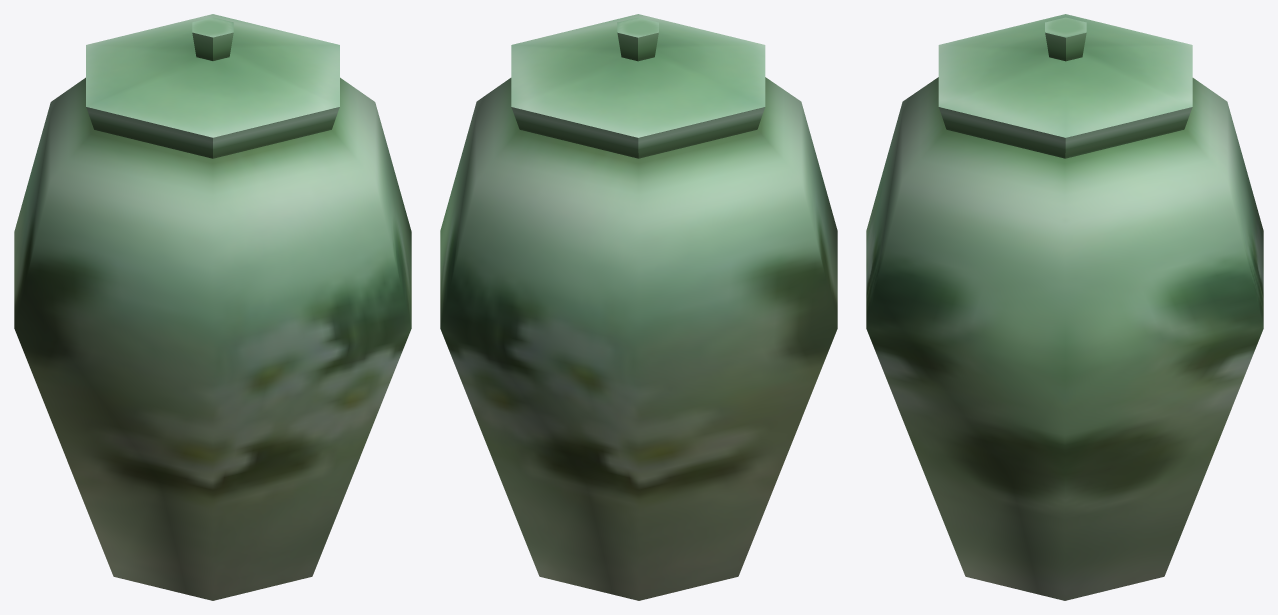
Rendered from M5_P_taohuazui01.FBX.
3 renders of one model, left to right at view 1: azimuth 30°, elevation 25°; view 2: azimuth 150°, elevation 25°; view 3: azimuth 270°, elevation 25°, orthographic.
Visible parts, largest first — view 1: M5_P_taohuazui01; view 2: M5_P_taohuazui01; view 3: M5_P_taohuazui01.
Boxes of the visible parts, x1=… form: M5_P_taohuazui01: x1=14, y1=14, x2=411, y2=600; M5_P_taohuazui01: x1=440, y1=14, x2=837, y2=600; M5_P_taohuazui01: x1=866, y1=14, x2=1263, y2=600.
Size of the model in its own units: 25.67 by 32.4 by 22.23.
